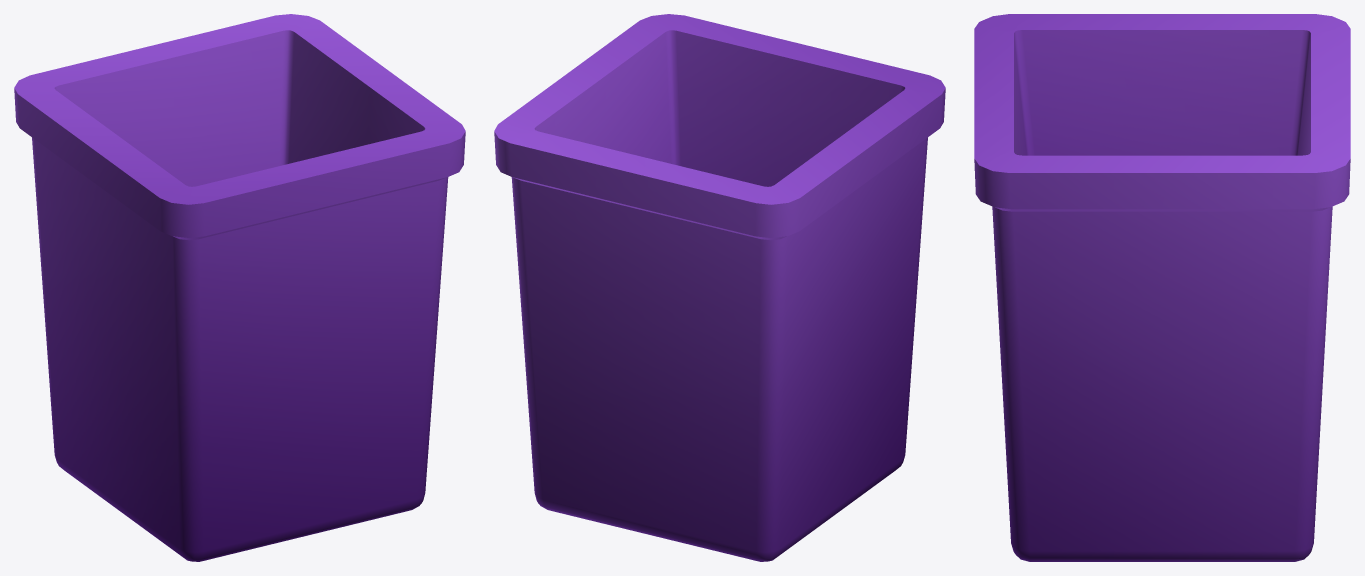
The model's file is Waste Bin_1.fbx.
3 views of the same model, side by side, from view 1: azimuth 30°, elevation 25°; view 2: azimuth 150°, elevation 25°; view 3: azimuth 270°, elevation 25° (orthographic). The views are drawn at different scales.
Visible parts, largest first — view 1: Waste Bin_1; view 2: Waste Bin_1; view 3: Waste Bin_1.
Part boxes in pixels (x1,y1,x2,y2): Waste Bin_1: [14, 14, 465, 561]; Waste Bin_1: [494, 14, 945, 561]; Waste Bin_1: [974, 14, 1350, 561].
Bounding box in the file's own units: 0.6333 × 0.764 × 0.6333.
Materials: 1 (1 with a texture image).
